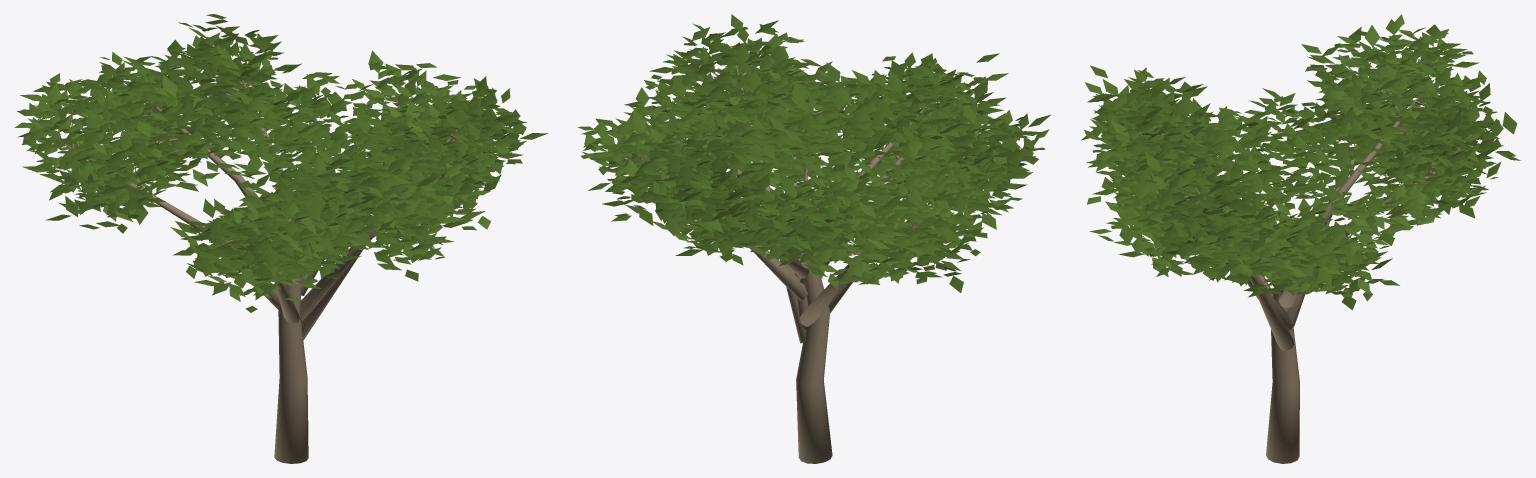
The model's file is broadleaf_a.glb.
The picture shows the model from 3 angles, left to right: view 1: azimuth 30°, elevation 25°; view 2: azimuth 150°, elevation 25°; view 3: azimuth 270°, elevation 25°; orthographic projection. The views are drawn at different scales.
Parts seen in each view (by area): view 1: CrownLeaves, Branches; view 2: CrownLeaves, Branches; view 3: CrownLeaves, Branches.
Part boxes in pixels (x1,y1,x2,y2): CrownLeaves: (14,14,548,312); Branches: (56,71,483,463); CrownLeaves: (577,14,1050,292); Branches: (621,63,1006,463); CrownLeaves: (1081,14,1520,310); Branches: (1148,60,1471,463).
Size of the model in its own units: 1.12 by 0.8932 by 0.9987.
